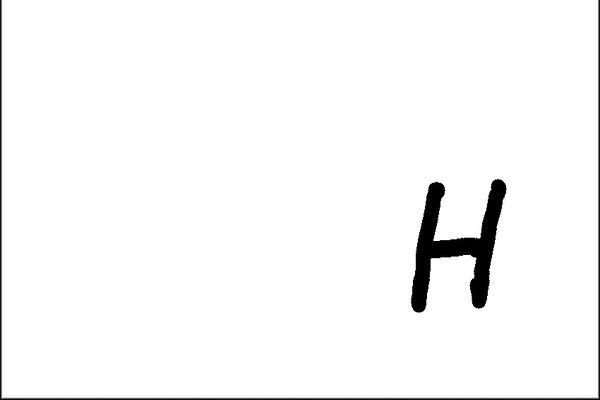H: (399, 172, 510, 317)
